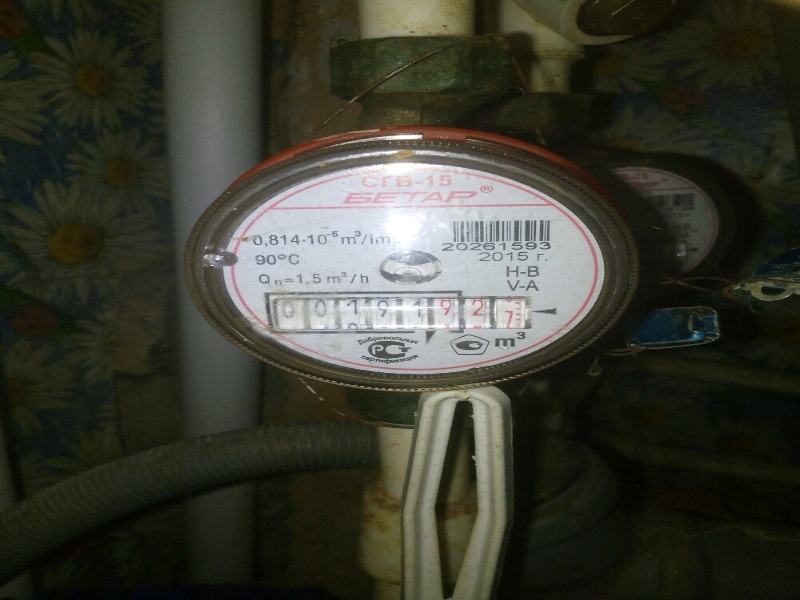meter: (258, 287, 539, 337)
